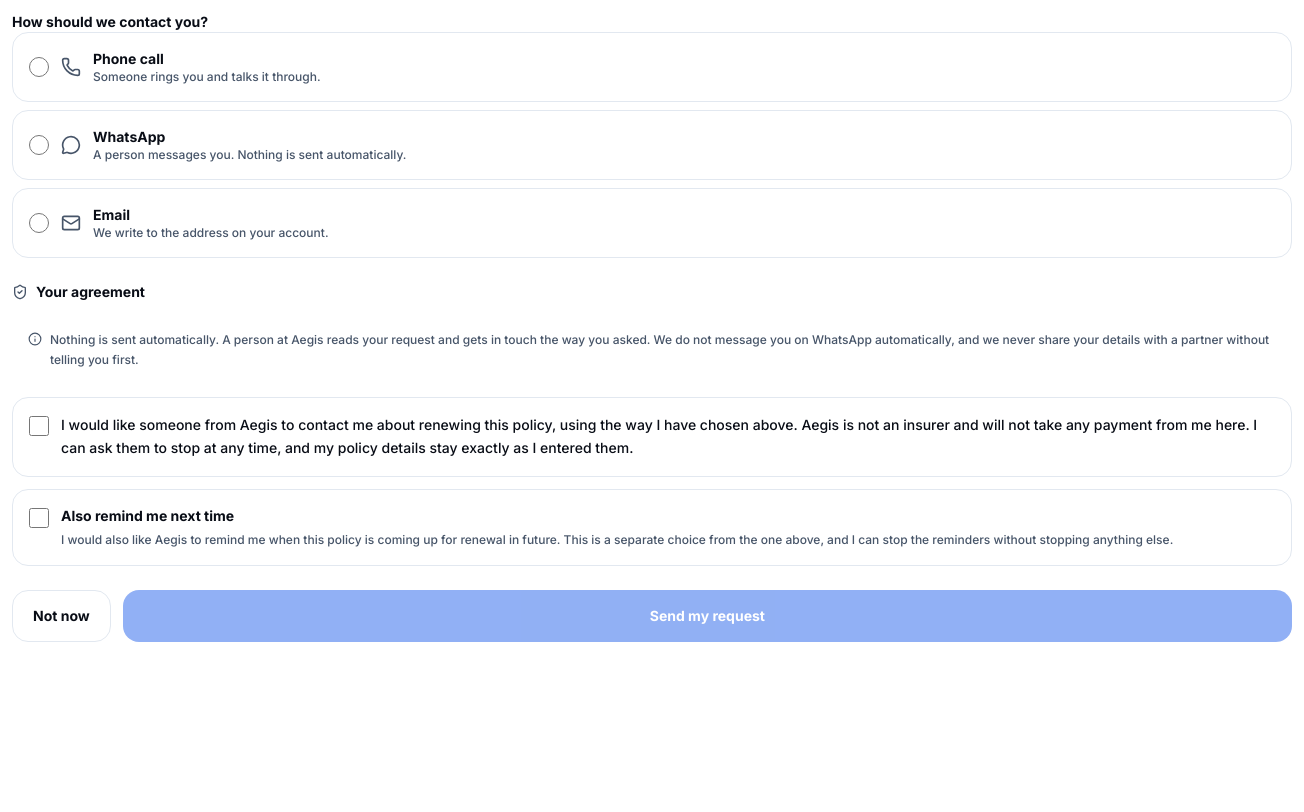
Scenario: the number › is asked for only when the channel needs one
Click the label with test id "channel-EMAIL": (112, 214) [12, 188, 1292, 258]
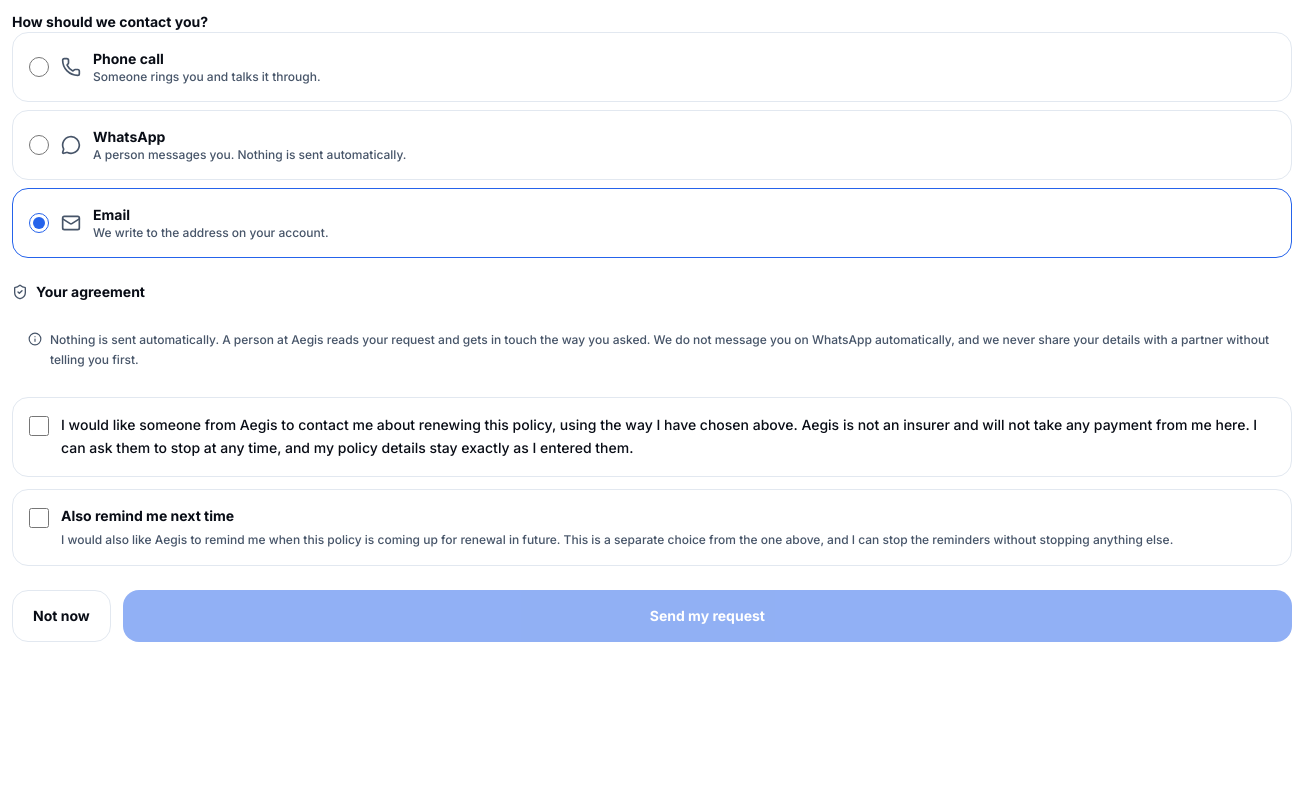
Click the label with test id "channel-CALL": (128, 58) [12, 32, 1292, 102]
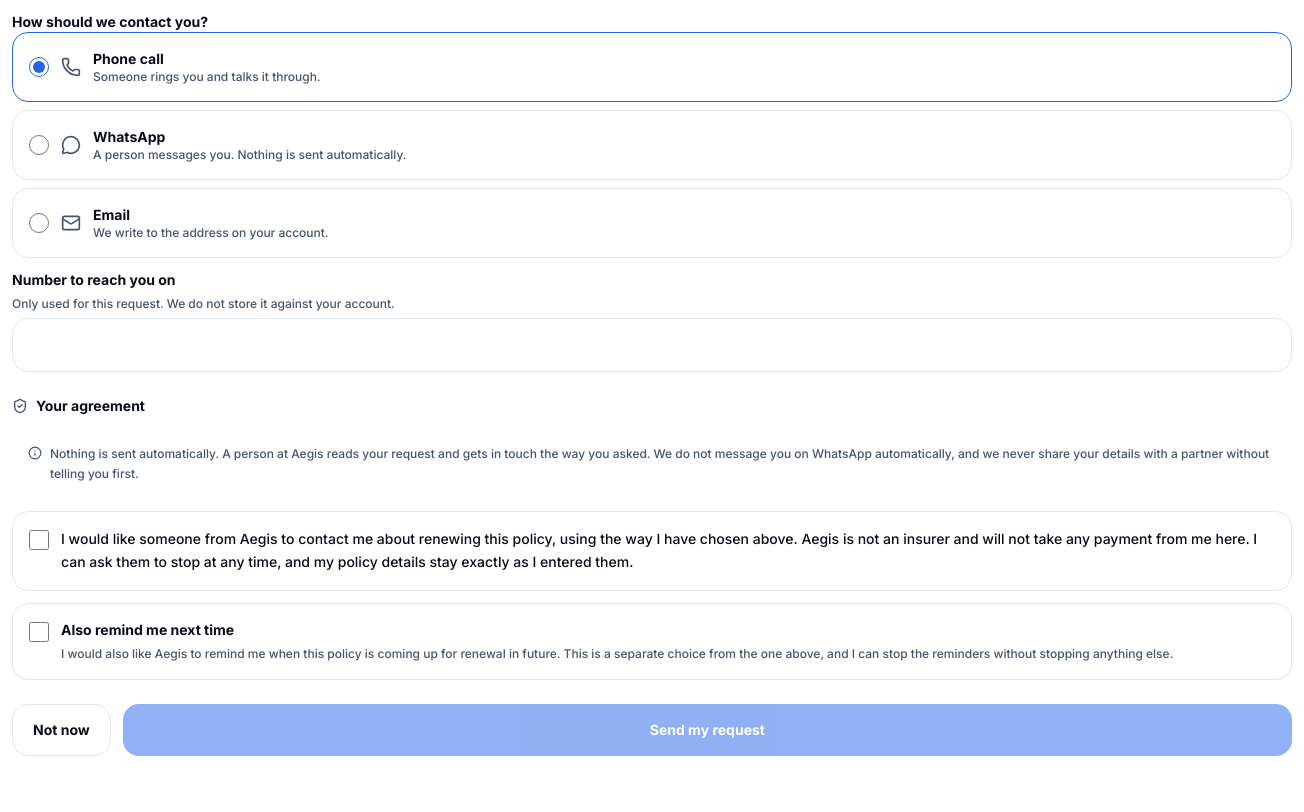
Expected: the field named "contactPhone" is shown, [12, 318, 1292, 372]
